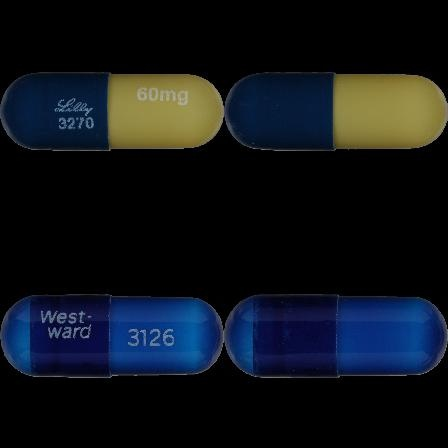63629-3340: (0, 0, 224, 224)
